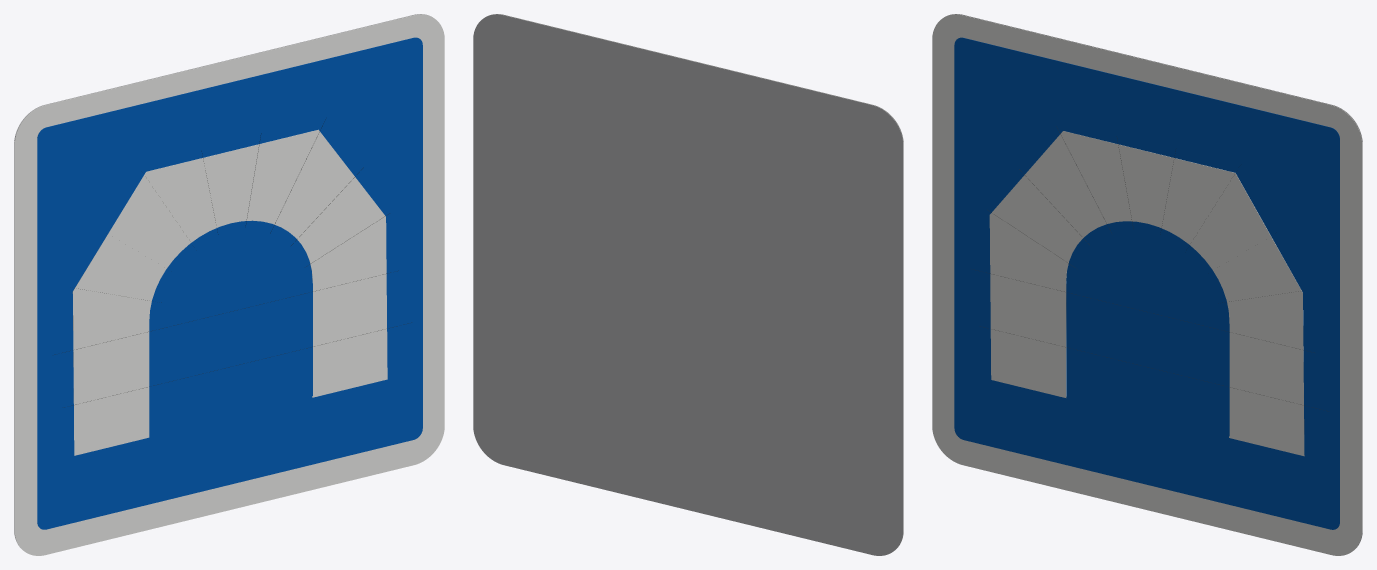
The picture shows the model from 3 angles, left to right: view 1: azimuth 30°, elevation 25°; view 2: azimuth 150°, elevation 25°; view 3: azimuth 330°, elevation 25°; orthographic projection.
Visible parts, largest first — view 1: C111_p01, C111_p02, C111_p00, C111_dos; view 2: C111_dos, C111_p00; view 3: C111_p01, C111_p02, C111_p00, C111_dos.
Part boxes in pixels (left/top/right/bottom): C111_p01: left=37, top=37, right=422, bottom=529; C111_p02: left=72, top=129, right=387, bottom=455; C111_p00: left=14, top=14, right=444, bottom=555; C111_dos: left=14, top=14, right=431, bottom=547; C111_dos: left=473, top=14, right=903, bottom=555; C111_p00: left=486, top=14, right=903, bottom=547; C111_p01: left=954, top=37, right=1339, bottom=529; C111_p02: left=989, top=131, right=1304, bottom=456; C111_p00: left=932, top=14, right=1362, bottom=555; C111_dos: left=945, top=14, right=1362, bottom=547.
Bounding box in the file's own units: 0.7 × 0.6999 × 0.0067.
